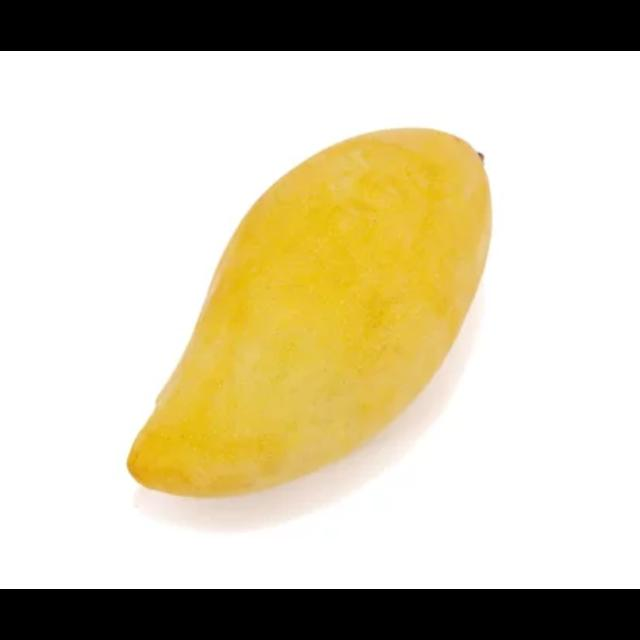mango: (126, 121, 497, 494)
